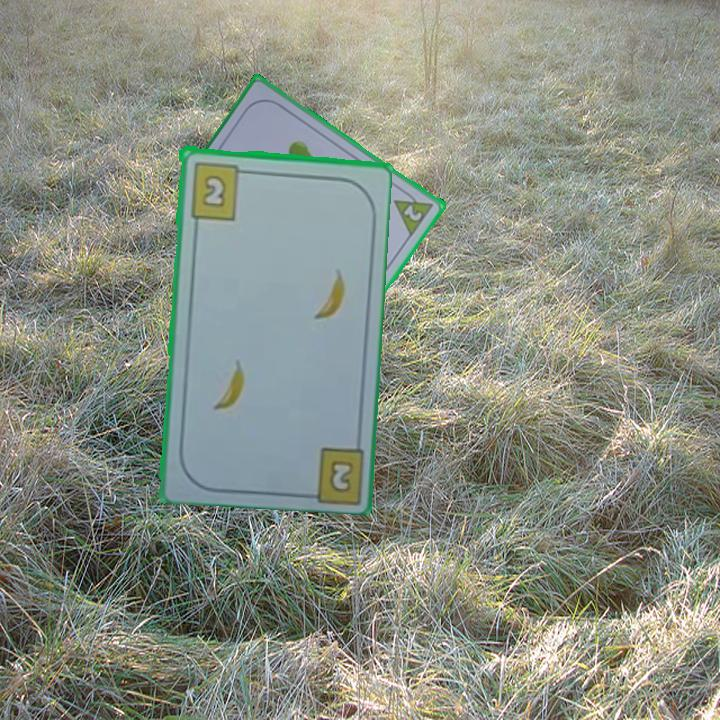2b: (187, 158, 251, 222), (325, 456, 356, 496)
2p: (400, 201, 426, 224)
